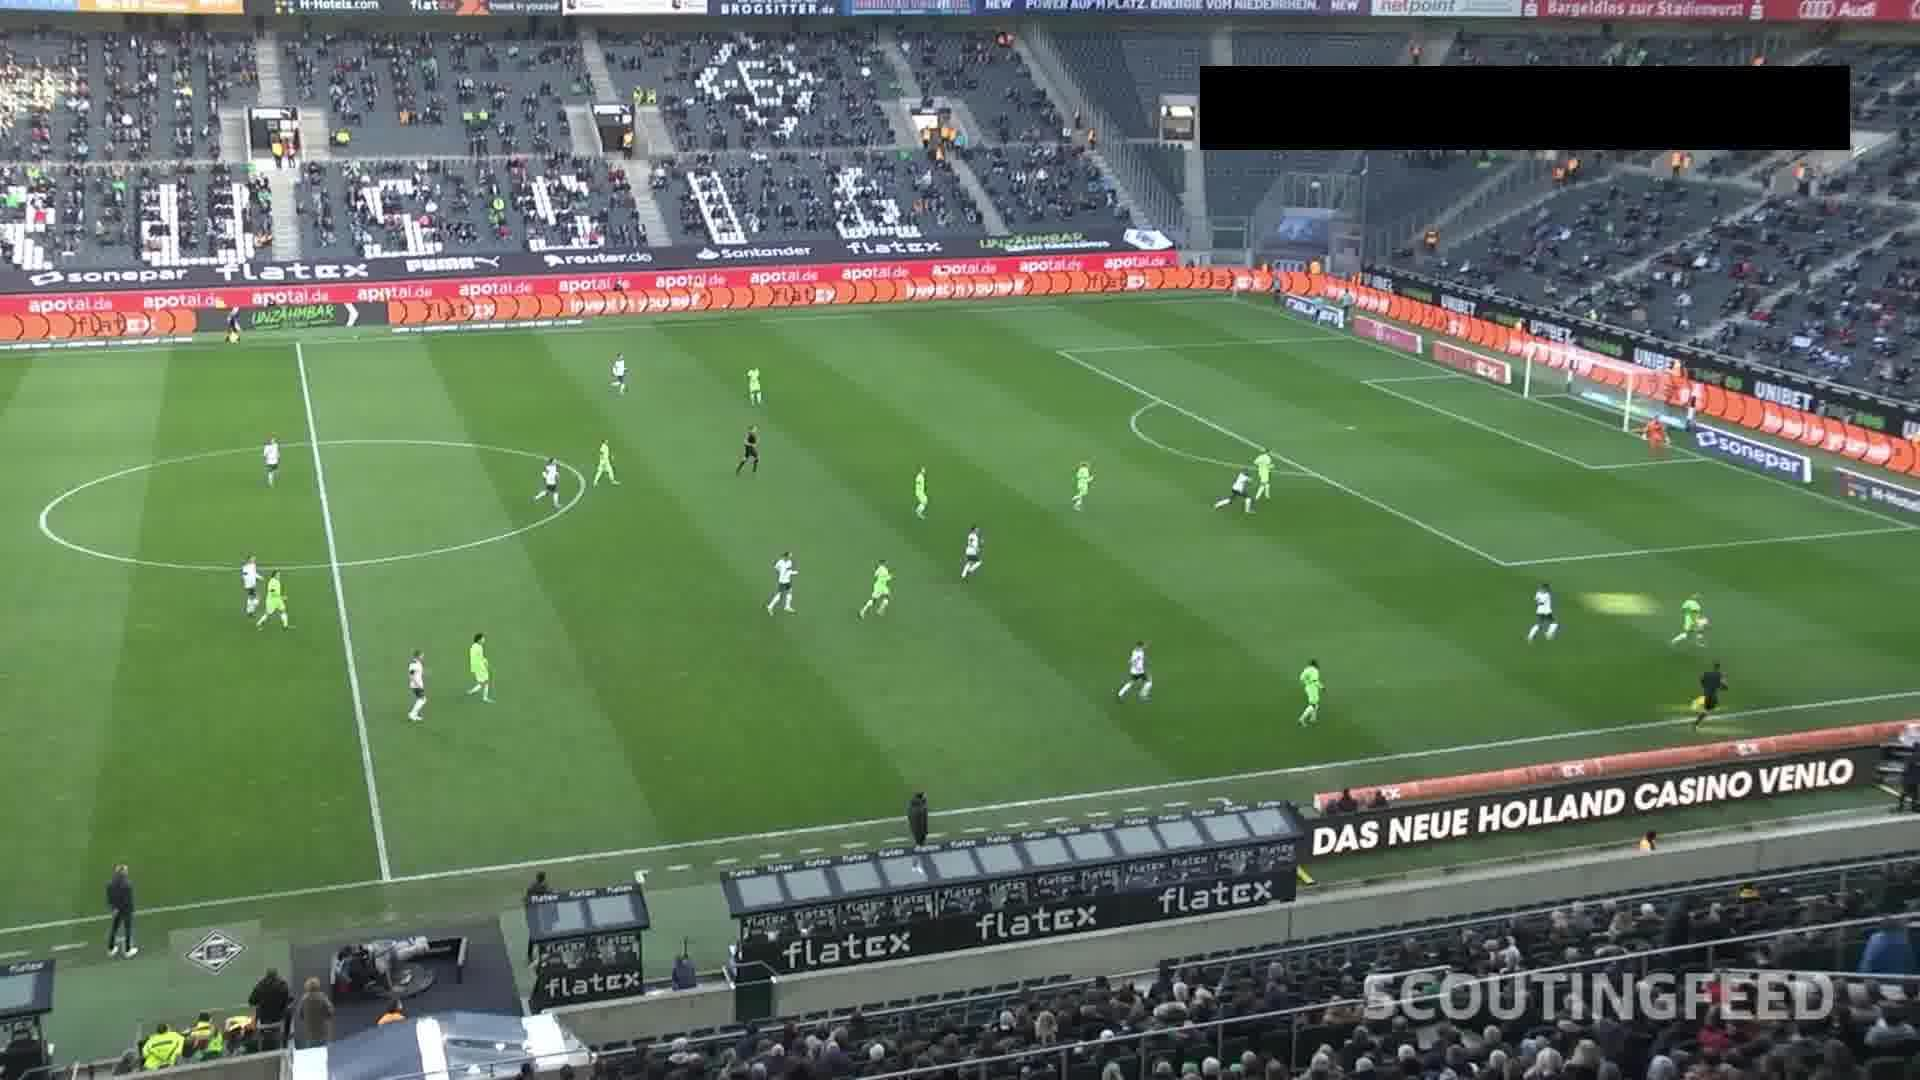football: (1700, 617, 1712, 630)
